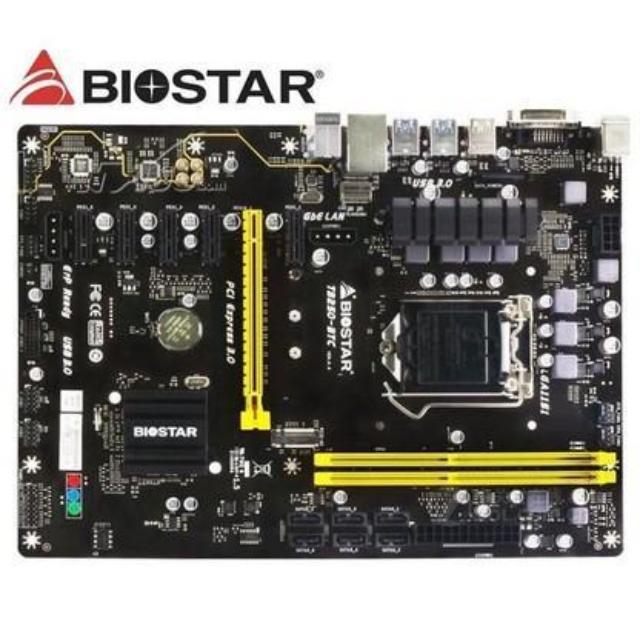Mainboard: (1, 109, 632, 568)
